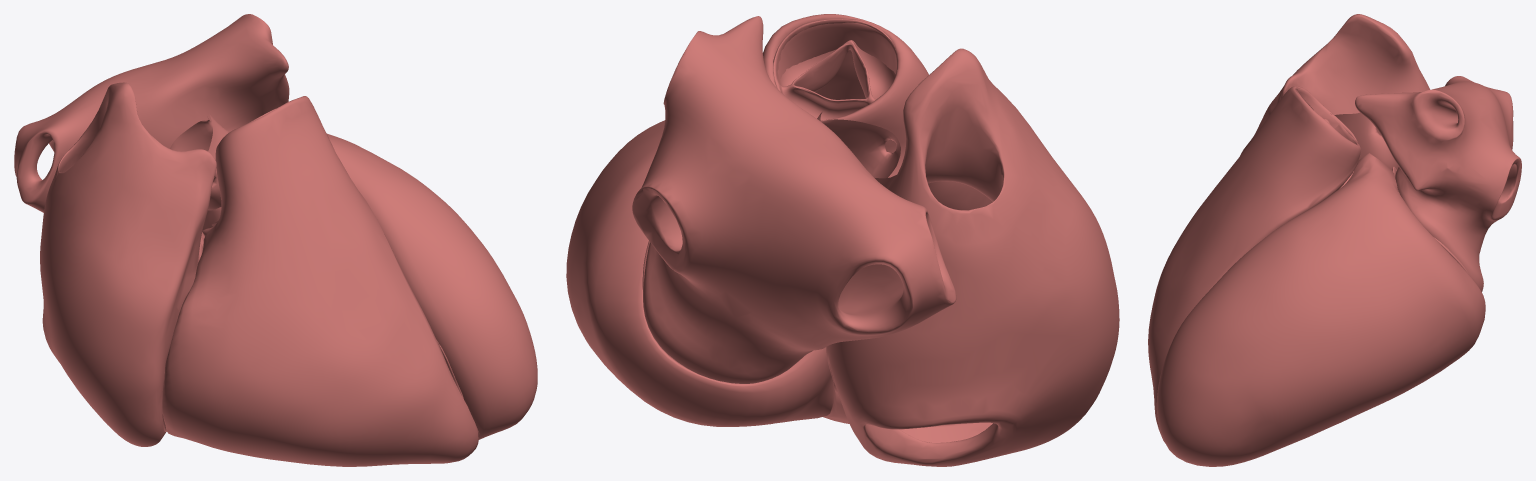
File: heart.glb
3 renders of one model, left to right at view 1: azimuth 30°, elevation 25°; view 2: azimuth 150°, elevation 25°; view 3: azimuth 270°, elevation 25°, orthographic. The views are drawn at different scales.
Visible parts, largest first — view 1: rv, ra, lv, la, av; view 2: la, ra, lv, rv, pv, av; view 3: lv, rv, la, ra, av.
Boxes of the visible parts, x1,y1,x2,y2 form: rv: (162, 96, 478, 466); ra: (40, 82, 216, 446); lv: (202, 133, 537, 439); la: (14, 14, 289, 212); av: (170, 114, 229, 210); la: (632, 16, 956, 383); ra: (826, 48, 1119, 466); lv: (566, 120, 833, 426); rv: (763, 14, 928, 423); pv: (773, 19, 895, 119); av: (817, 112, 900, 188); lv: (1156, 153, 1485, 466); rv: (1148, 86, 1360, 442); la: (1355, 76, 1521, 291); ra: (1240, 14, 1429, 155); av: (1334, 112, 1398, 169).
Size of the model in its own units: 0.1244 by 0.1054 by 0.1052.
